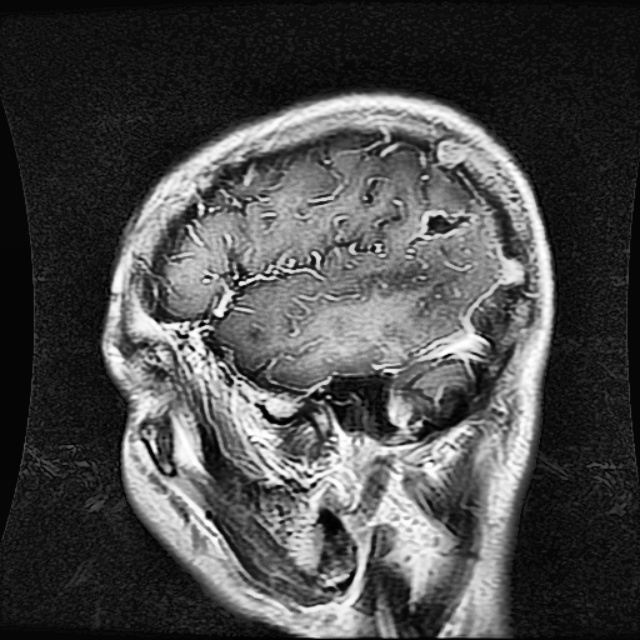Meningioma: (423, 209, 478, 237)
